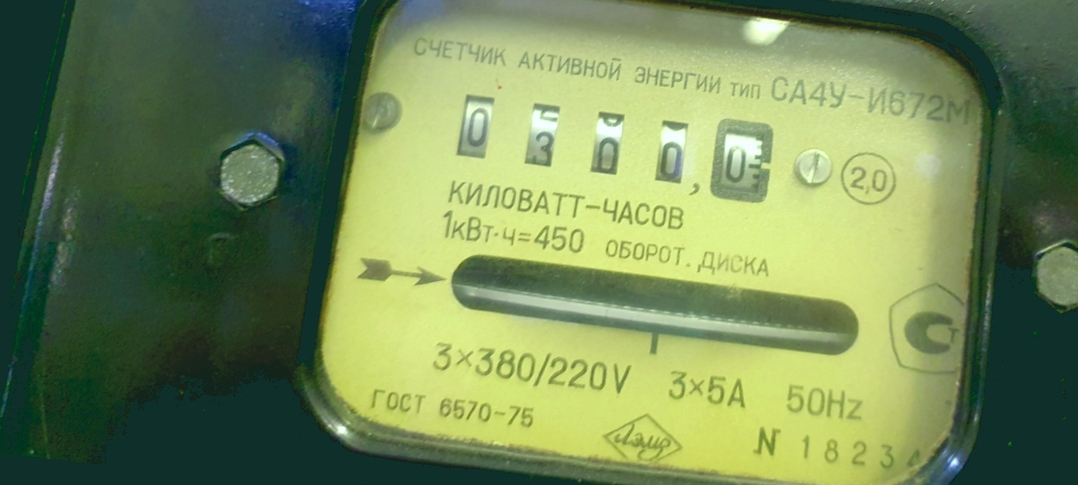0: (657, 136, 687, 183), (464, 101, 492, 150), (721, 140, 750, 185), (593, 132, 621, 175)
3: (529, 126, 556, 167)
screen: (433, 68, 797, 221)
